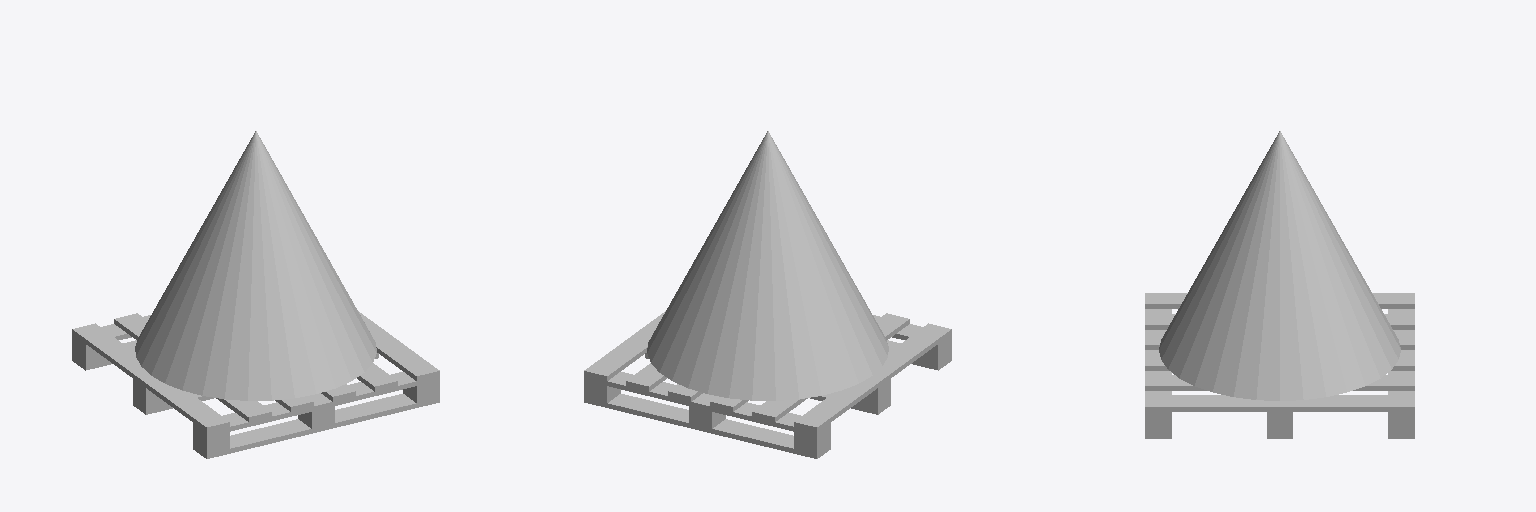
The model's file is palette_cone.obj.
3 views of the same model, side by side, from view 1: azimuth 30°, elevation 25°; view 2: azimuth 150°, elevation 25°; view 3: azimuth 270°, elevation 25° (orthographic).
Parts seen in each view (by area): view 1: Cone, Cube, Cube.003_Cube.004, Cube.002_Cube.003, Cube.001; view 2: Cone, Cube, Cube.003_Cube.004, Cube.002_Cube.003, Cube.001; view 3: Cone, Cube, Cube.001, Cube.002_Cube.003.
Boxes of the visible parts, x1,y1,x2,y2 form: Cone: [135, 131, 376, 400]; Cube: [72, 311, 439, 431]; Cube.003_Cube.004: [72, 340, 439, 458]; Cube.002_Cube.003: [72, 339, 439, 453]; Cube.001: [72, 315, 439, 436]; Cone: [647, 131, 888, 400]; Cube: [584, 311, 951, 431]; Cube.003_Cube.004: [584, 340, 951, 458]; Cube.002_Cube.003: [584, 339, 951, 453]; Cube.001: [584, 315, 951, 436]; Cone: [1159, 131, 1400, 400]; Cube: [1145, 293, 1414, 411]; Cube.001: [1145, 309, 1414, 416]; Cube.002_Cube.003: [1145, 417, 1414, 433].
Size of the model in its own units: 2 by 2.06 by 2.